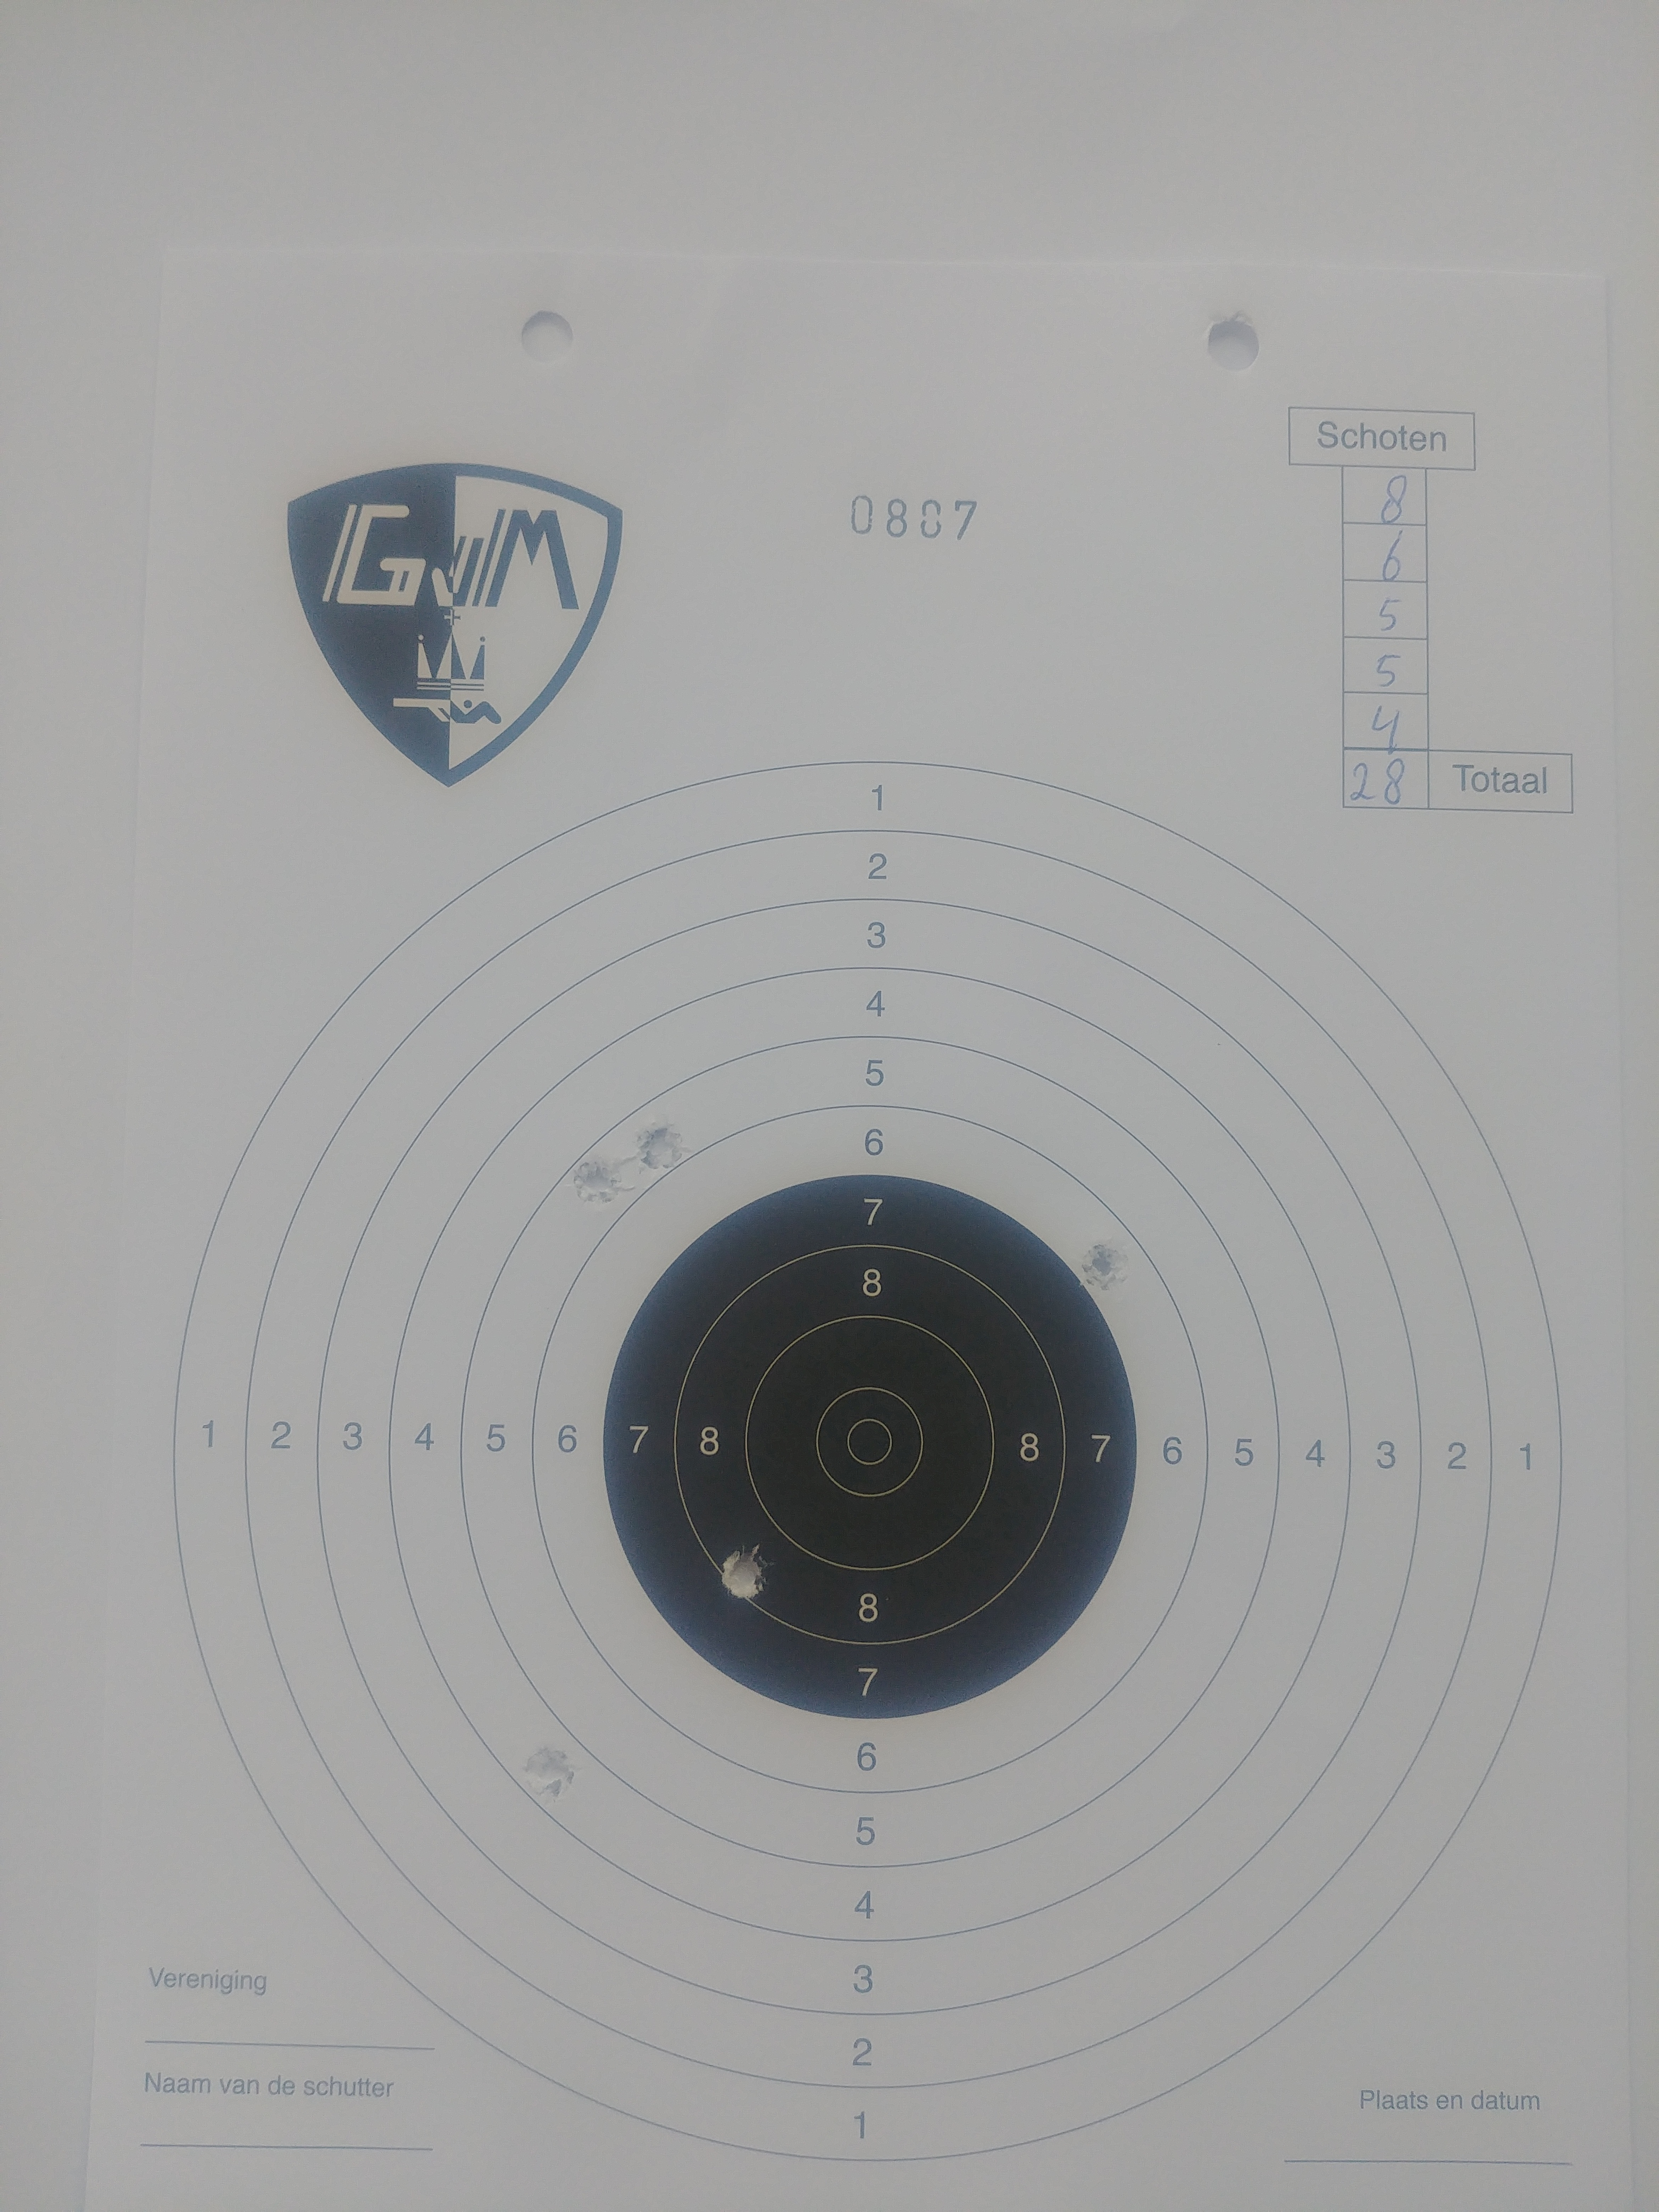center: (601, 1174, 1138, 1721)
out: (169, 759, 1563, 2163)
shot: (559, 1153, 638, 1205), (519, 1742, 580, 1804), (720, 1540, 779, 1601), (627, 1118, 694, 1172), (1077, 1238, 1134, 1291)
target: (814, 1385, 924, 1498)
